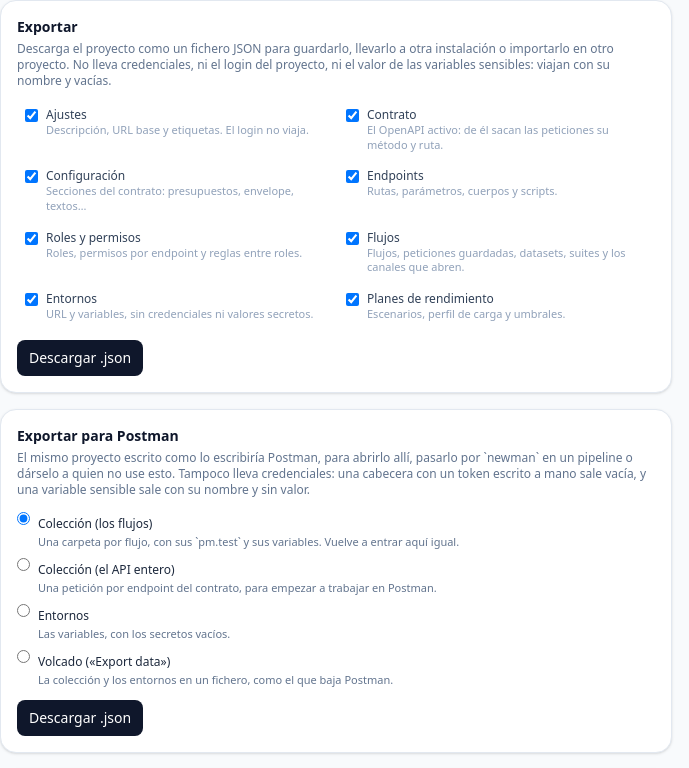
Test: ProjectTransferPage › Postman: un error se enseña
Click the button "Descargar .json" below "Volcado («Export data»)". click: {"x": 80, "y": 718}
box: [17,700,143,736]
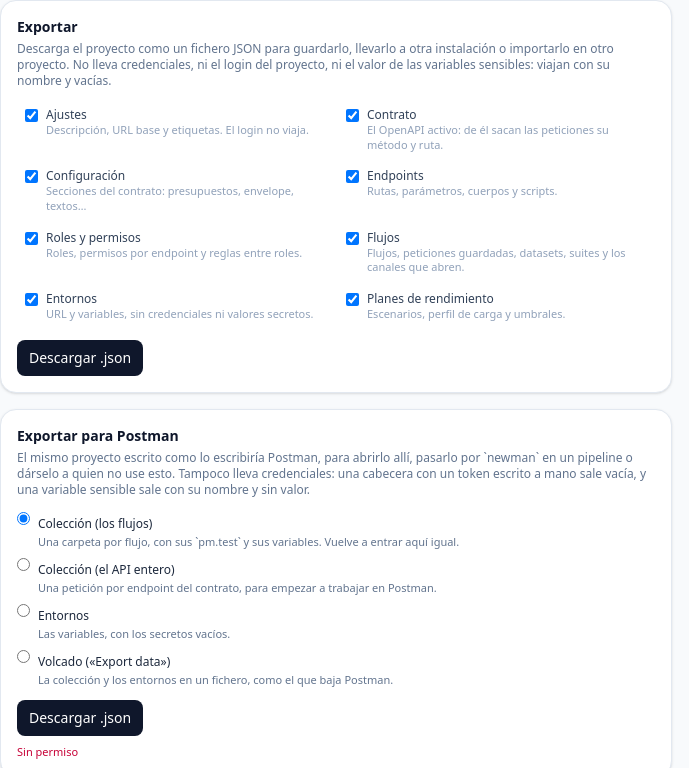
Result: the text "Sin permiso" is shown at [17,744,78,759]
